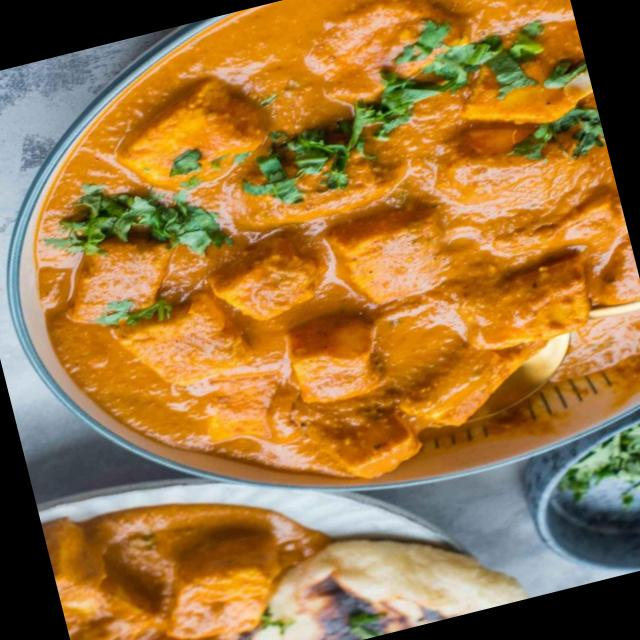roti: (310, 536, 472, 640)
